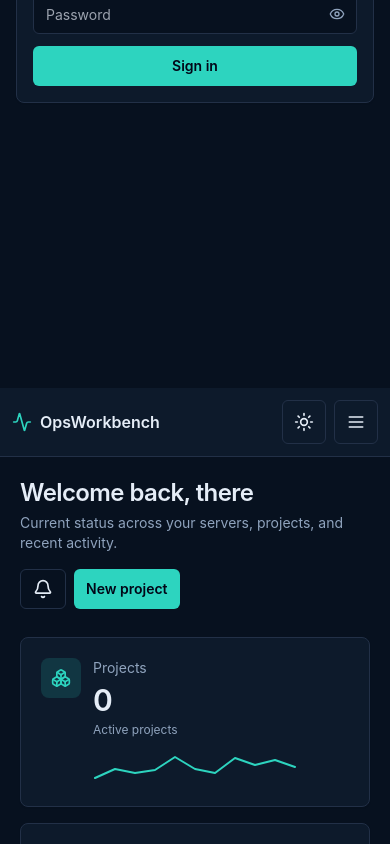
Test case: Responsive navigation › uses one complete navigation tree for desktop and mobile
The image size is (390, 844).
(page scrolled)
Click the button named "Open navigation": {"x": 356, "y": 422} [334,400,378,444]
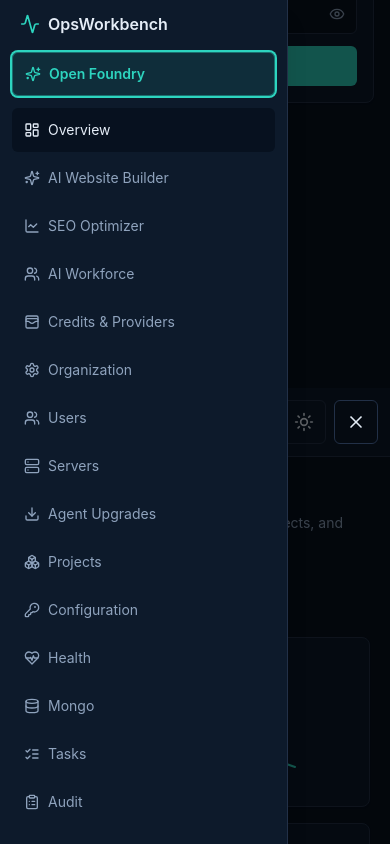
Result: the number of elements named "Primary navigation" is 1
Result: the element named "Primary navigation" shows "Overview" at [12,108,275,152]
Result: the element named "Primary navigation" shows "AI Website Builder" at [12,156,275,200]
